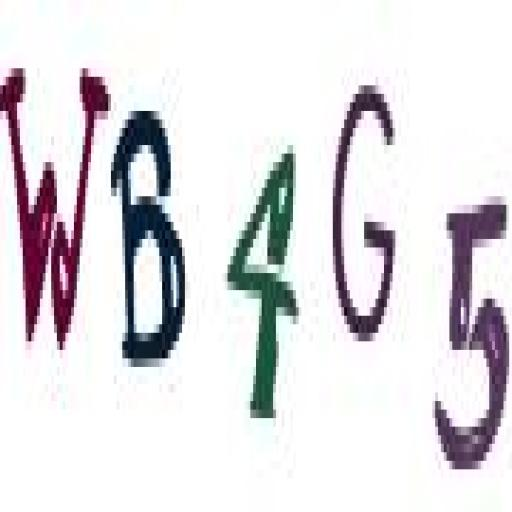4: (224, 132, 302, 428)
5: (430, 190, 512, 488)
B: (108, 100, 193, 380)
G: (332, 81, 399, 358)
W: (0, 48, 109, 356)
